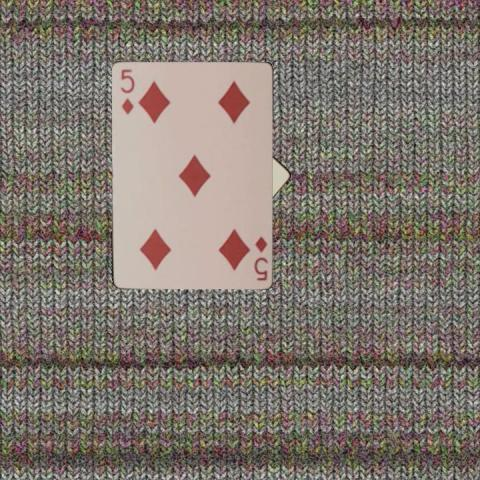5d: (250, 233, 269, 281), (118, 66, 136, 116)
